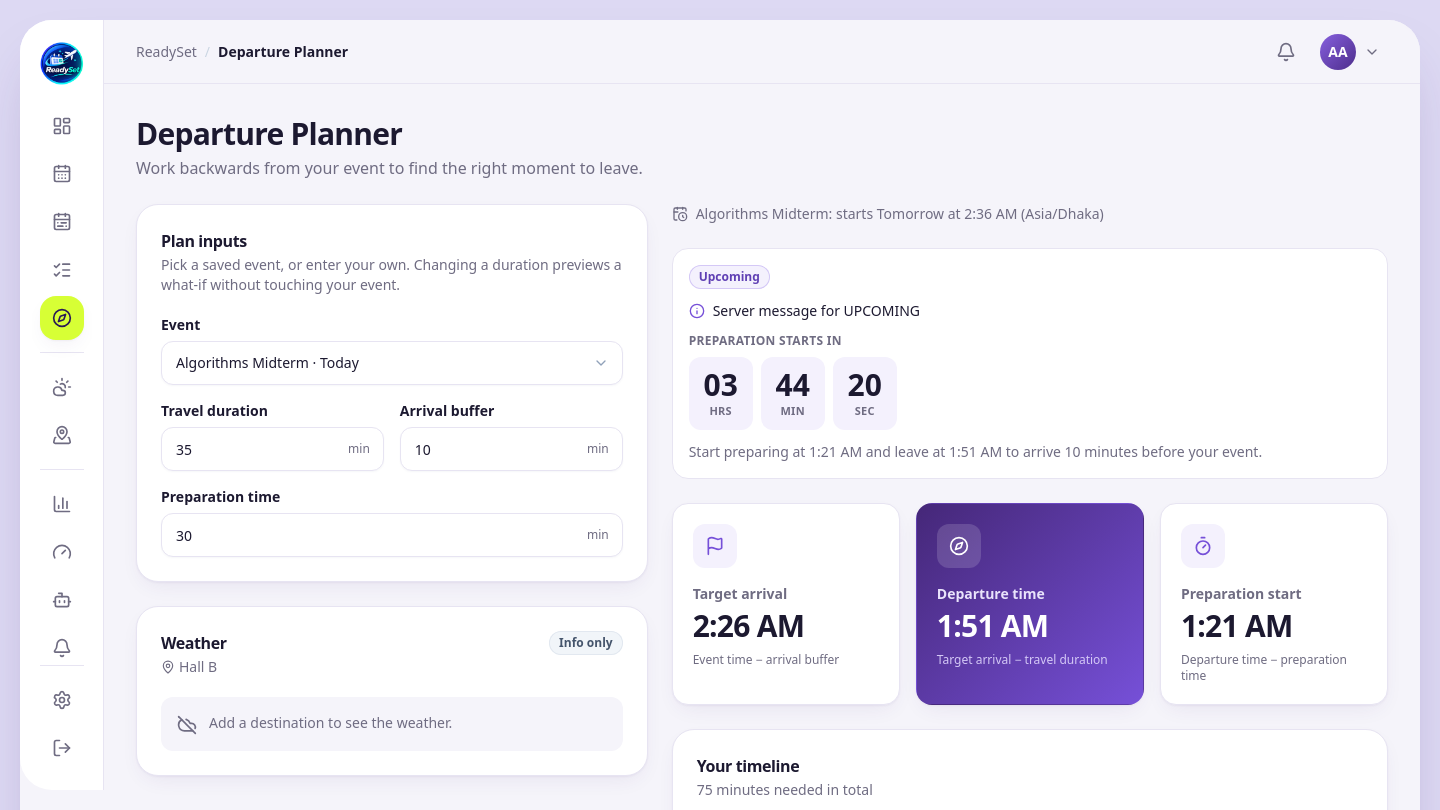
it: Departure Planner › what-if calculator: one debounced preview request, clearly labelled, and NOTHING is saved
Replace the text in the number field labelled "Travel duration" with "50" at (272, 449), box [161, 427, 384, 471]
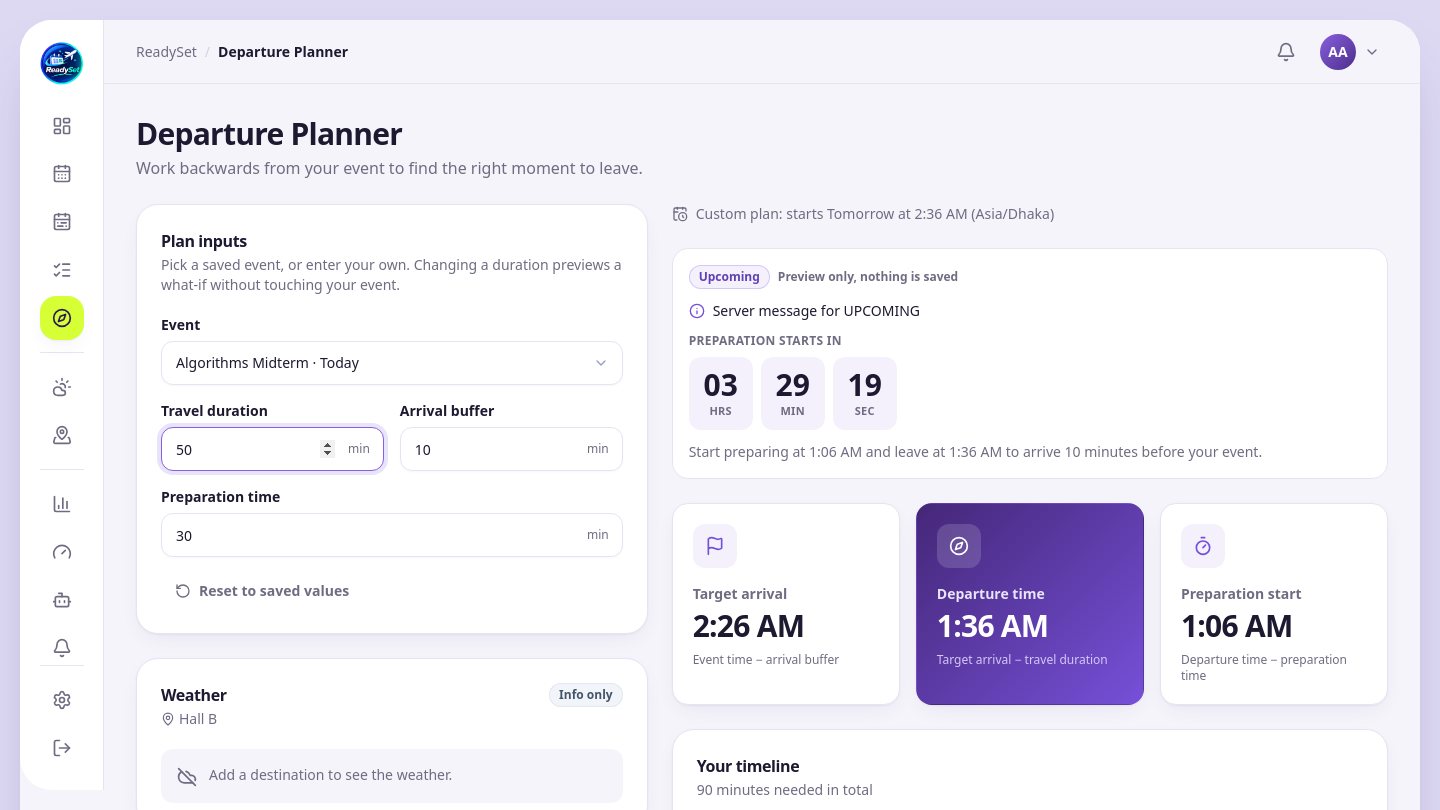
Expected: the text "Preview only, nothing is saved" is shown, [778, 269, 958, 285]
Click the button "Reset to saved values" at (262, 591), box [161, 573, 363, 609]
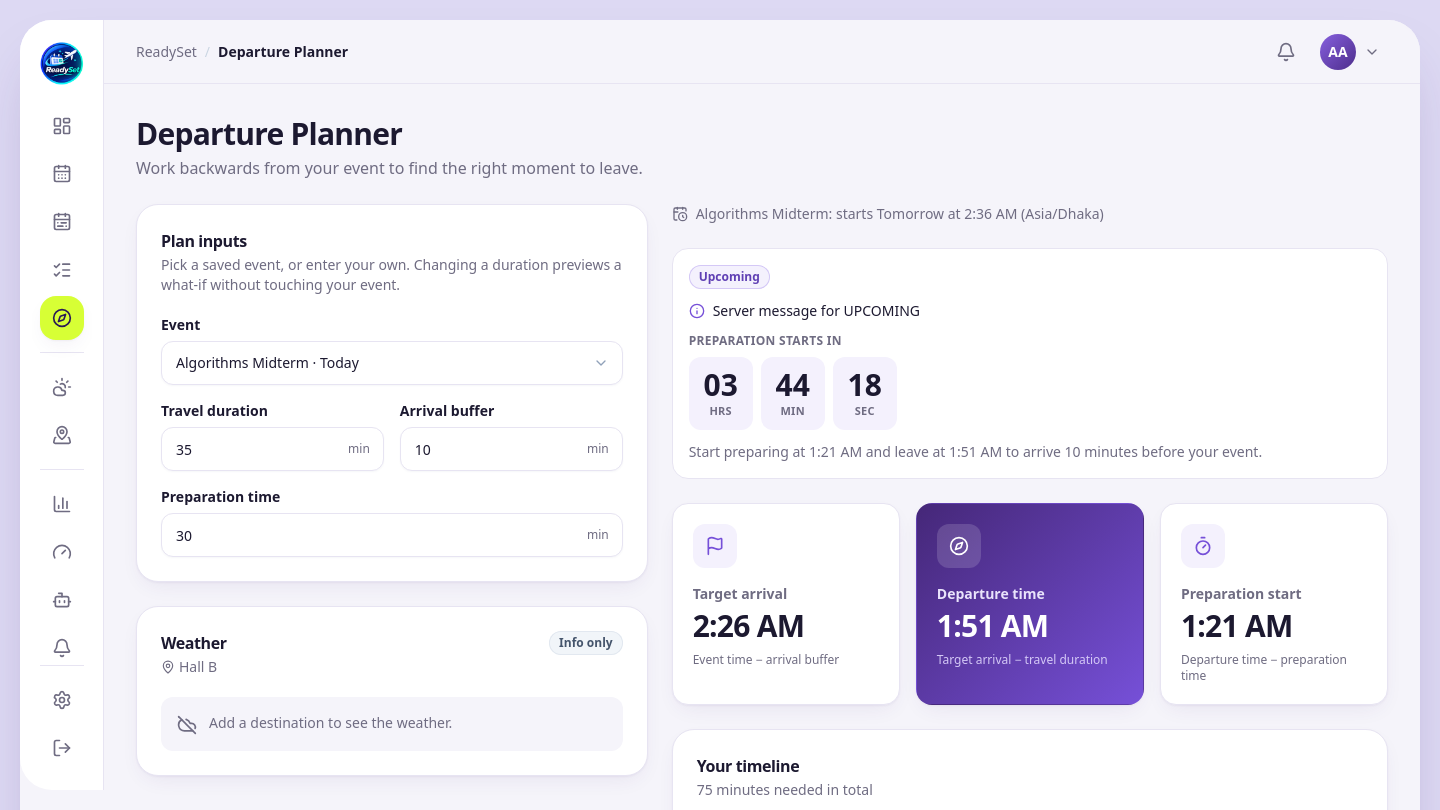
Expected: the text "Preview only, nothing is saved" is gone
Expected: the number field labelled "Travel duration" holds "35", [161, 427, 384, 471]
